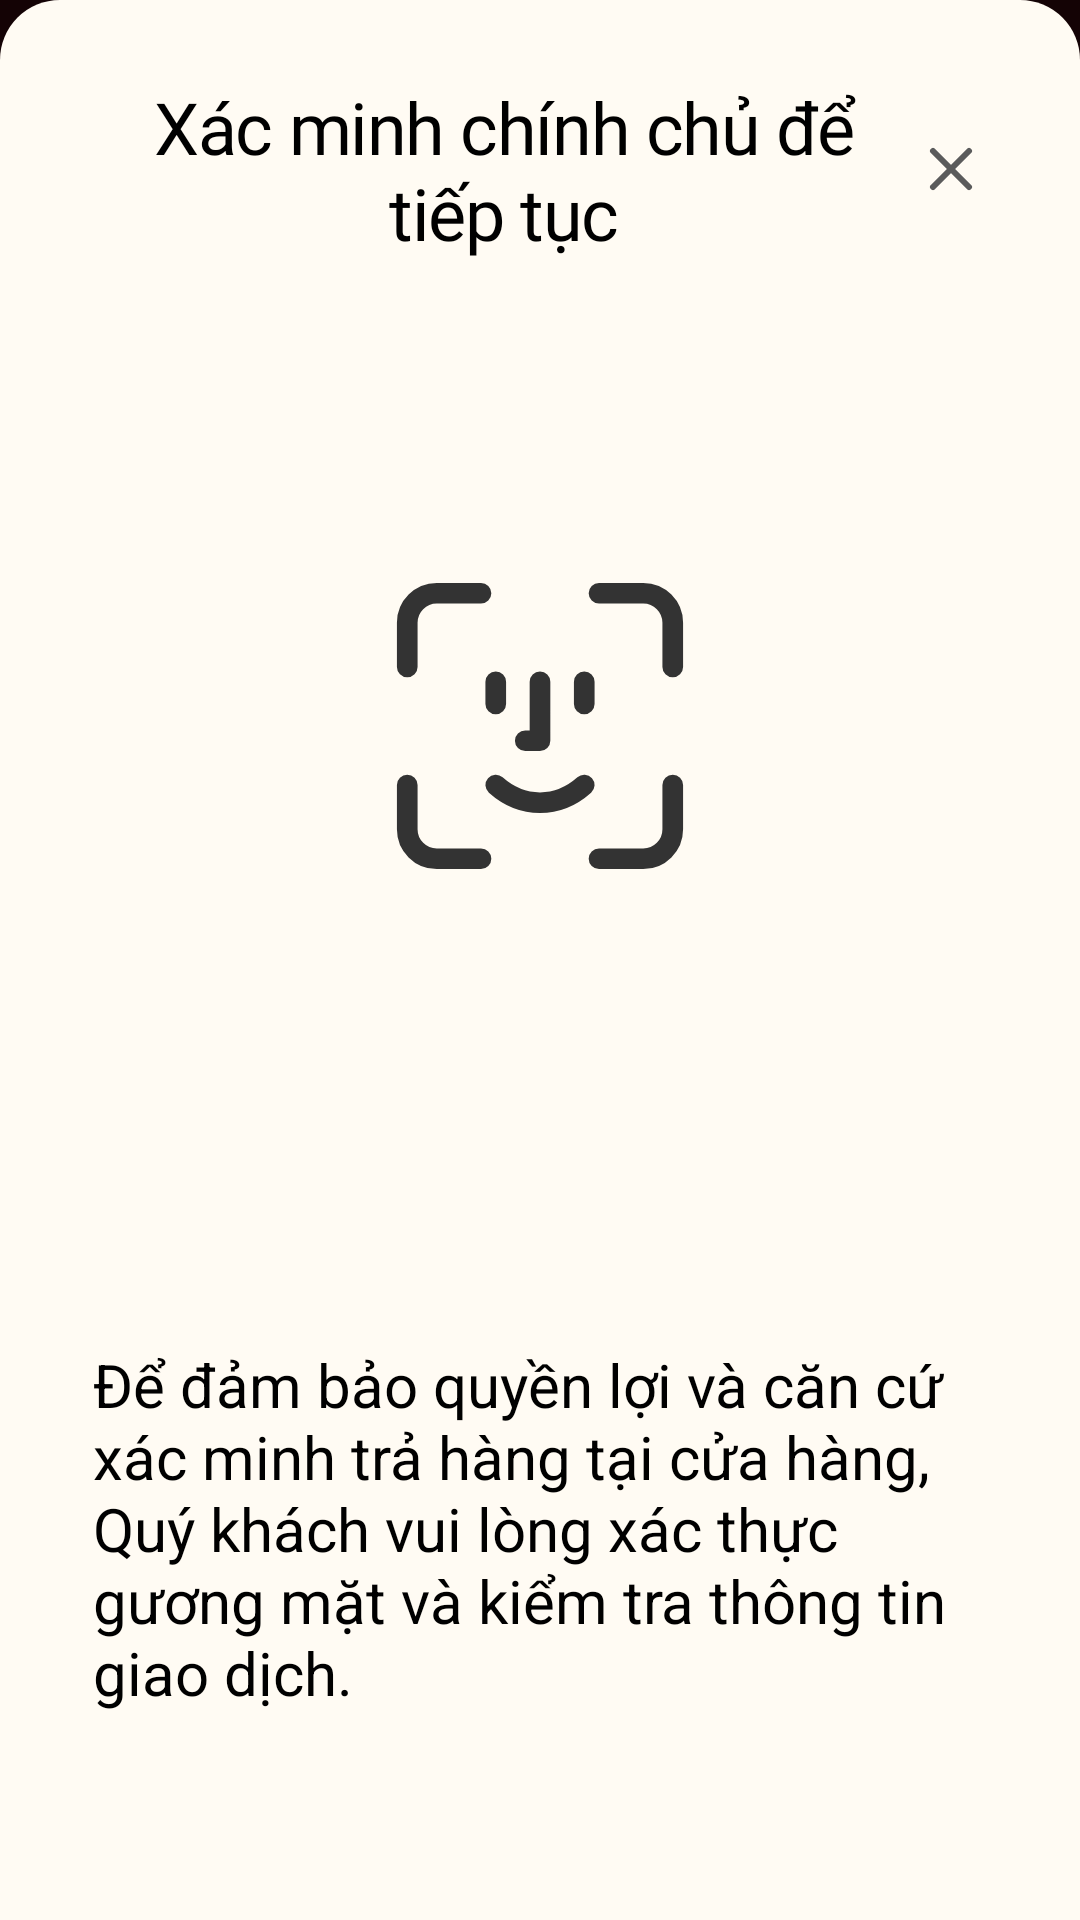

Icons on this 1080px x 1920px Android screen, each with its box as bbox=[x1, y1, x2, y2]:
face scan: bbox=[397, 583, 683, 869]
Đóng: bbox=[930, 148, 972, 190]
